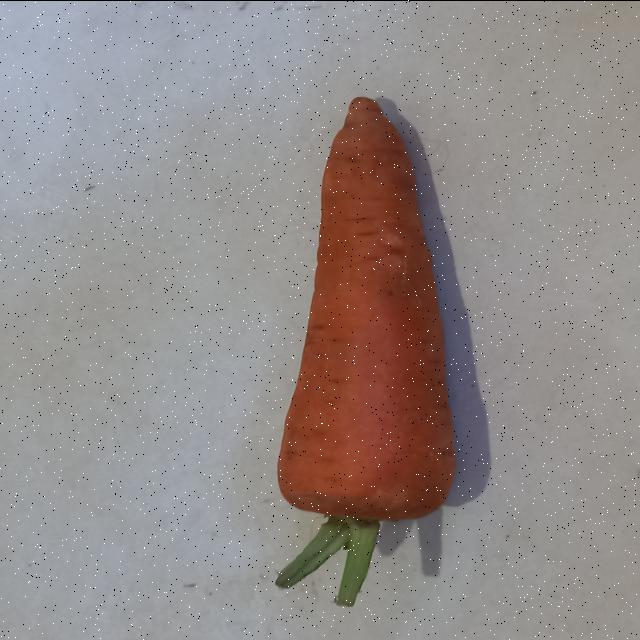carrot: (278, 96, 455, 519)
